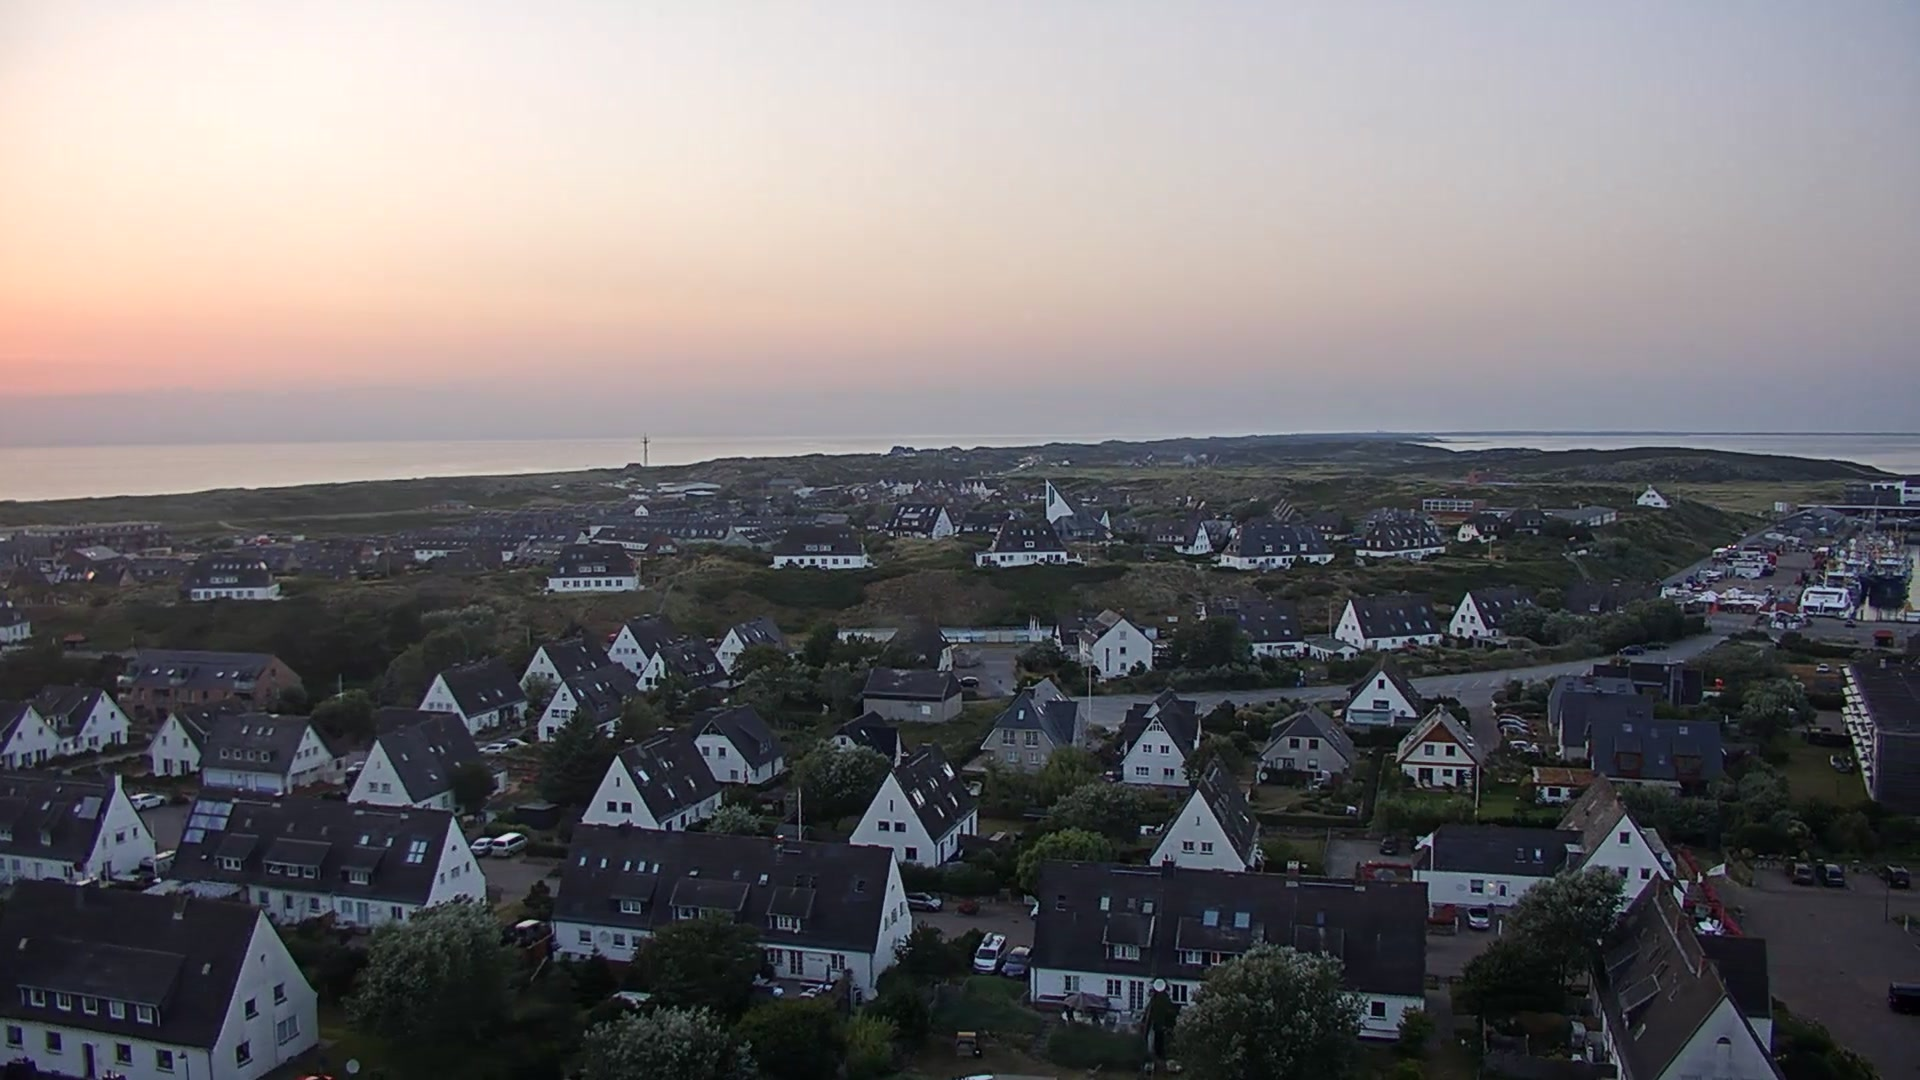land: (969, 930, 1007, 976), (997, 942, 1033, 981), (136, 851, 179, 882), (1886, 980, 1920, 1015), (512, 918, 553, 945), (1876, 862, 1911, 891), (491, 832, 530, 857), (905, 891, 944, 913), (1816, 862, 1847, 887), (1784, 860, 1815, 885), (129, 793, 167, 812), (1466, 905, 1491, 931), (1378, 832, 1400, 856), (476, 742, 509, 757), (469, 835, 493, 855), (1495, 713, 1532, 725), (1498, 725, 1536, 736), (1497, 720, 1535, 731), (1507, 740, 1539, 752), (955, 674, 978, 688), (1615, 644, 1644, 655), (1640, 641, 1669, 651), (345, 760, 367, 771), (1712, 547, 1729, 562), (506, 737, 530, 746), (1815, 662, 1832, 673), (1726, 541, 1738, 549), (1844, 618, 1855, 626)
sea: (1865, 531, 1913, 603), (1797, 584, 1853, 616), (1817, 568, 1859, 608)
